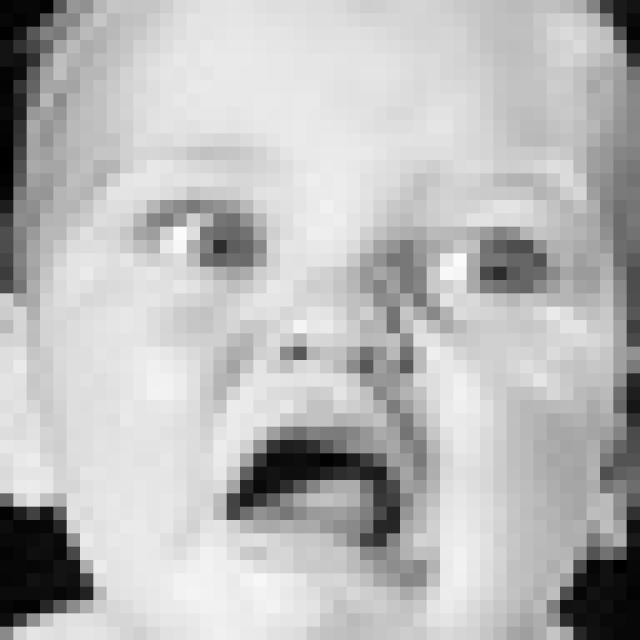disgust: (108, 152, 575, 607)
